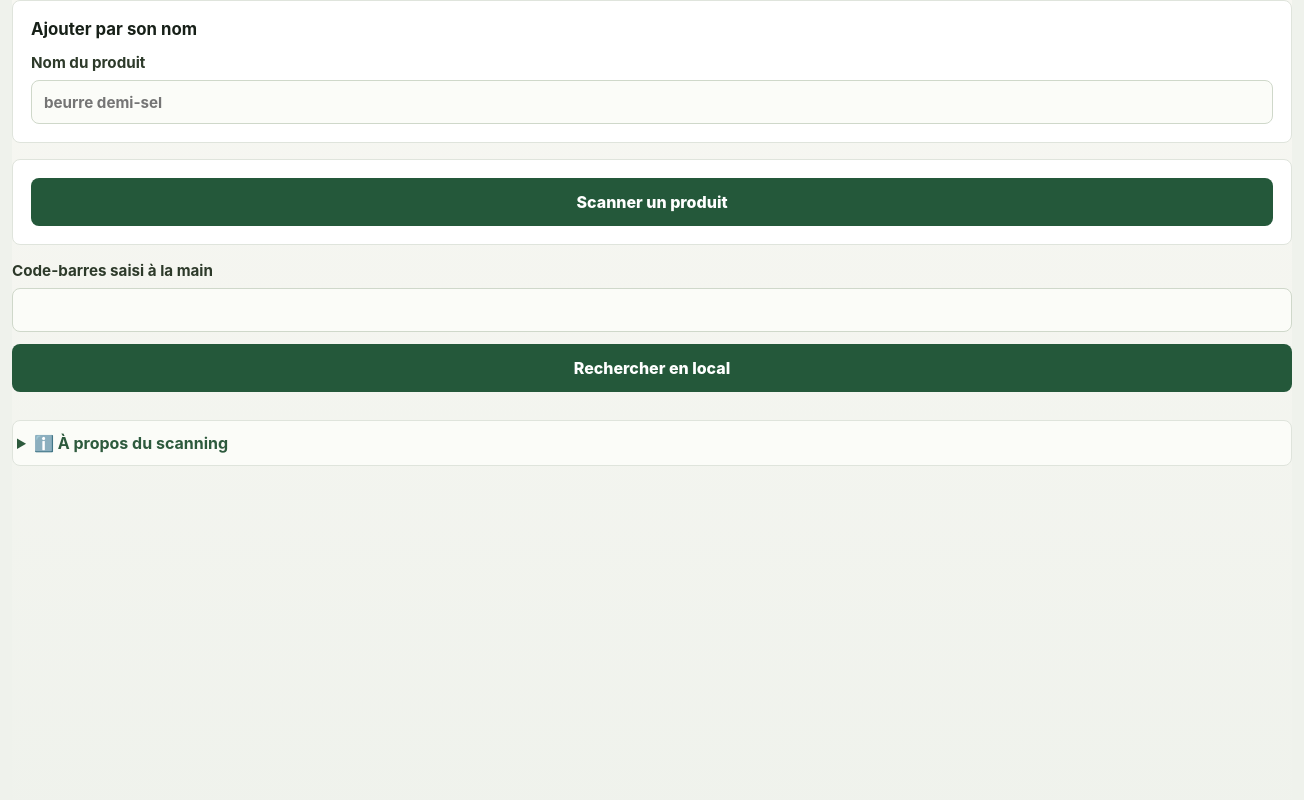
ScanPage — ajout direct au scan (sans confirmation) › crée et ajoute automatiquement un produit trouvé sur Open Food Facts, sans clic de confirmation
Type "9999999999999" into the field labelled "Code-barres saisi à la main".
click(652, 310); type("9999999999999")  # box [12,288,1292,332]
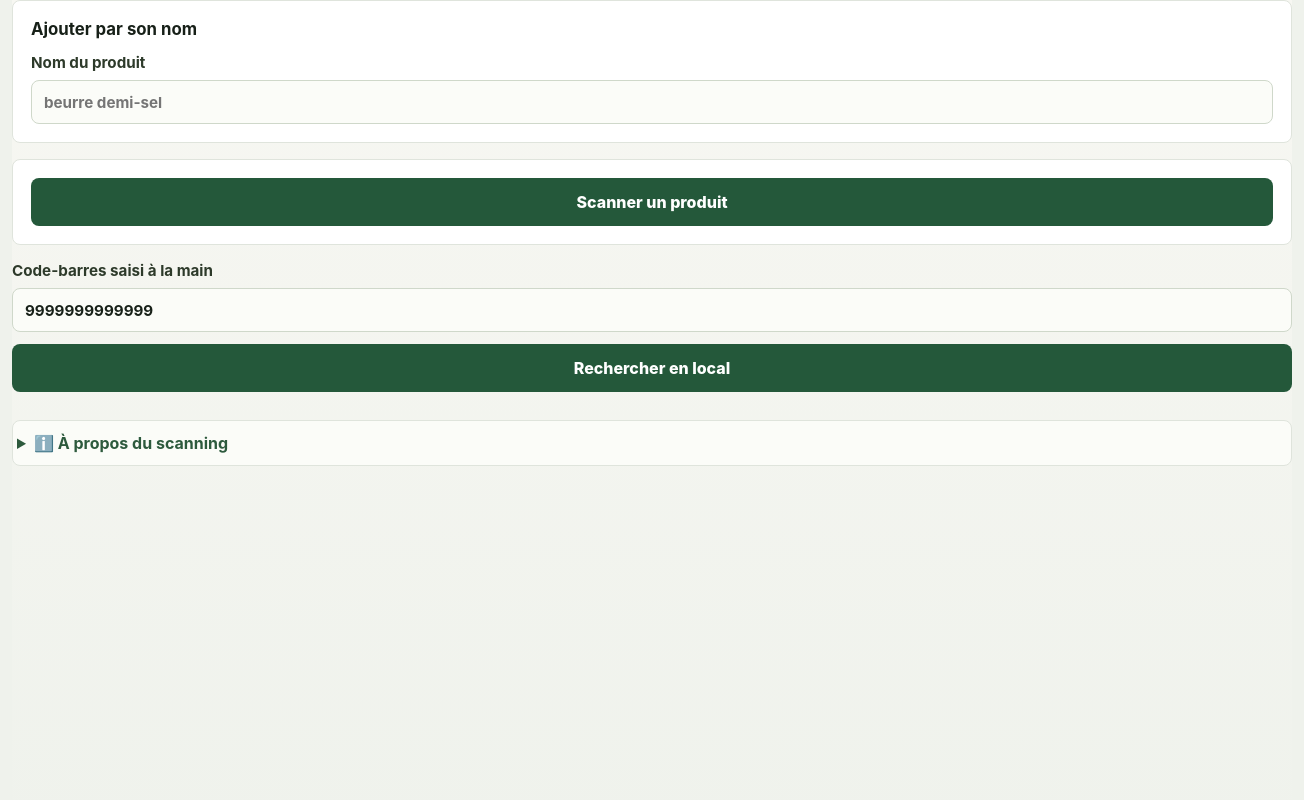
Click the button "Rechercher en local".
click(652, 368)  # box [12,344,1292,392]
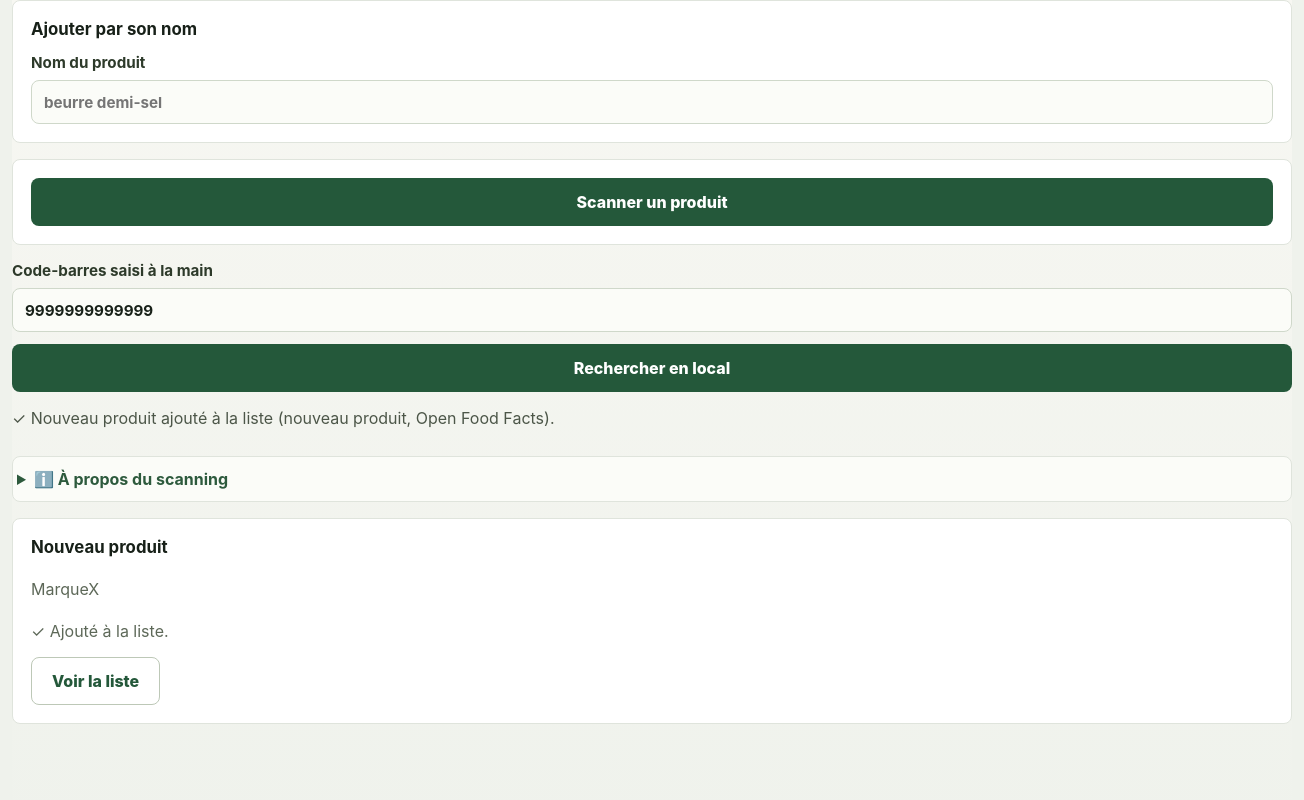
Check: the text "ajouté à la liste (nouveau produit, Open Food Facts)" is shown, box [12,408,554,428]
